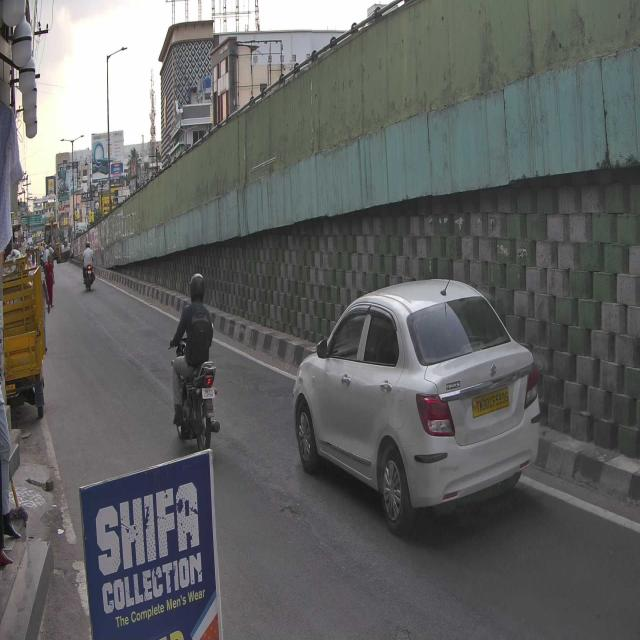single_rider: (168, 270, 221, 453)
